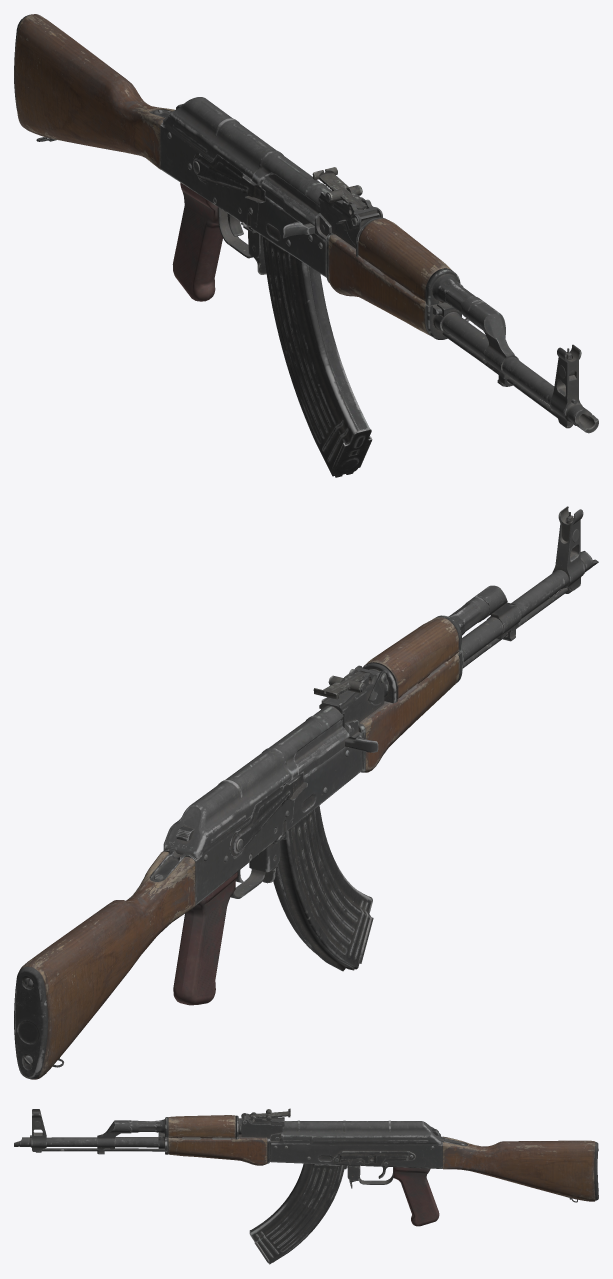
3 renders of one model, top to bottom at view 1: azimuth 30°, elevation 25°; view 2: azimuth 150°, elevation 25°; view 3: azimuth 270°, elevation 25°, orthographic. The views are drawn at different scales.
Visible parts, largest first — view 1: AK-47; view 2: AK-47; view 3: AK-47.
Boxes of the visible parts, x1,y1,x2,y2 form: AK-47: [14, 14, 598, 477]; AK-47: [14, 506, 598, 1079]; AK-47: [14, 1108, 598, 1264].
Size of the model in its own units: 0.0714 by 0.2719 by 0.9471.
Materials: 1 (1 with a texture image).
